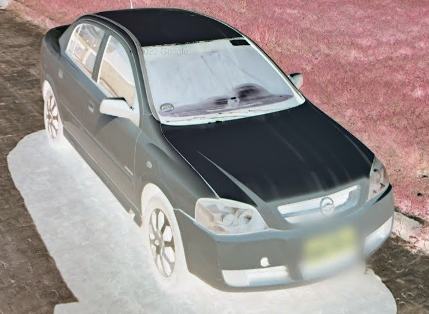car: (37, 7, 394, 299)
